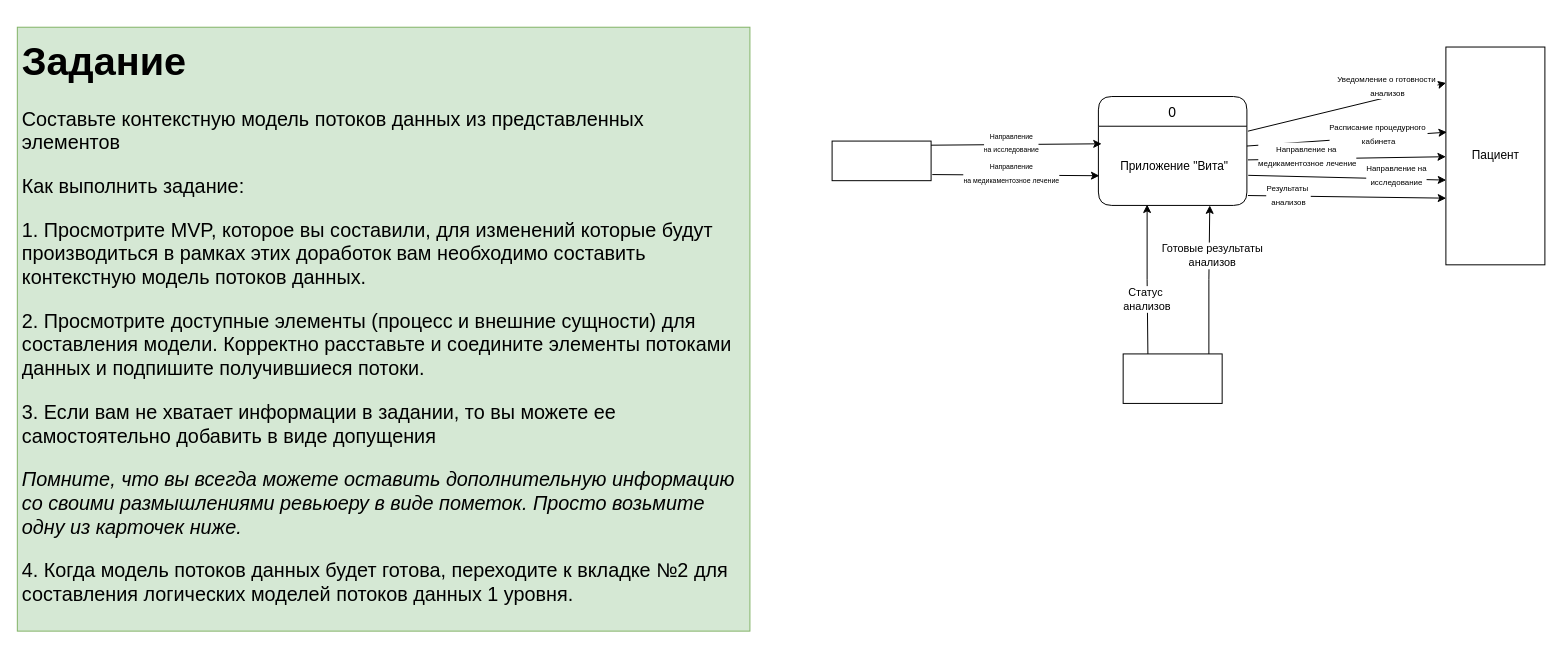
Some shapes in this 1562 by 648 pixel diagram are drawn without their labels. The centre of each missing label's shape, as x and y in pixels:
"Врач" belongs at pixel 881 160.
"Лаборатория" belongs at pixel 1172 378.
